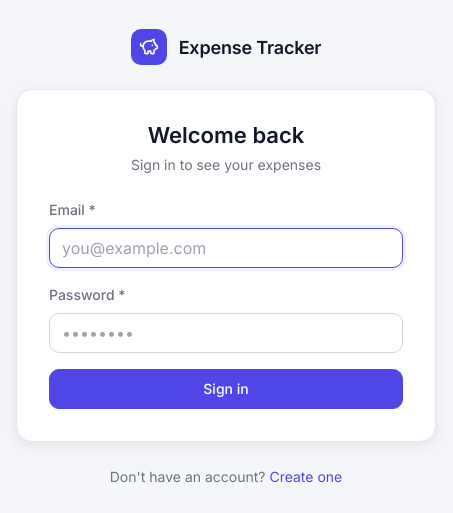
Test: login page › rejects a malformed email locally
Expected: the heading "Welcome back" is shown, [148,122,304,148]
Type "not-an-email" into the field labelled "Email *".
click(226, 248); type("not-an-email")  # box [49,228,403,268]
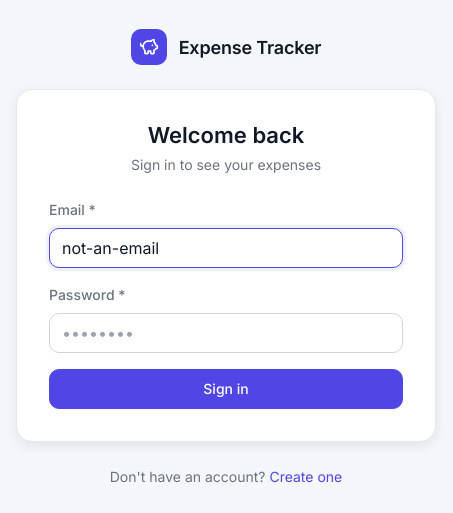
Type "password123" into the password field labelled "Password *".
click(226, 333); type("password123")  # box [49,313,403,353]
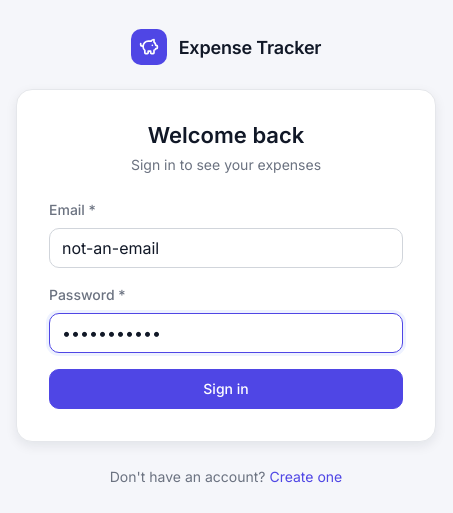
Click the button "Sign in".
click(226, 389)  # box [49,369,403,409]
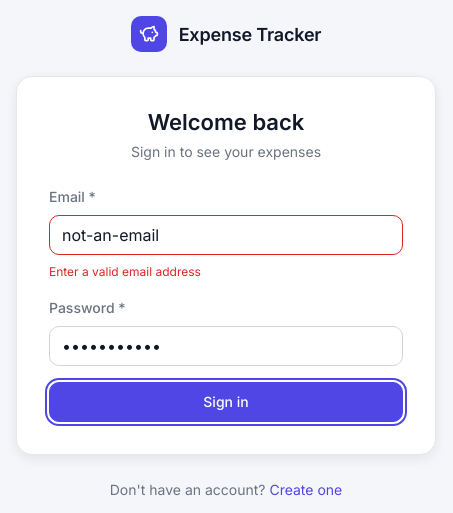
Now the text "Enter a valid email address" is shown, box [49,264,201,279]
